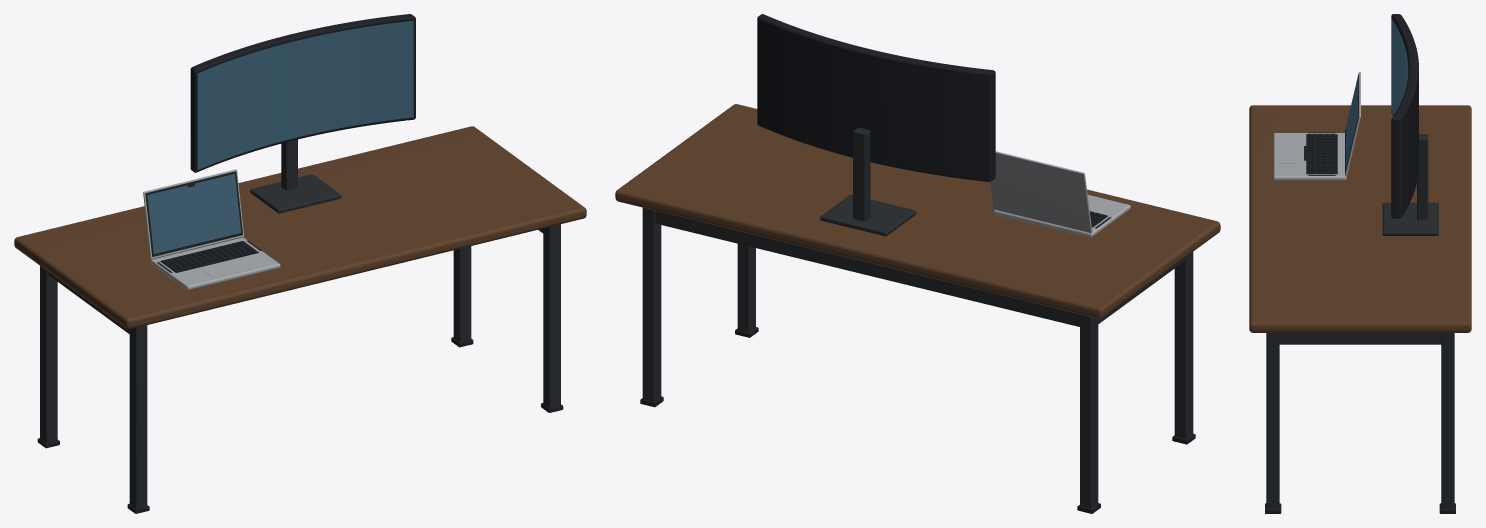
The model's file is personal-desk.glb.
3 renders of one model, left to right at view 1: azimuth 30°, elevation 25°; view 2: azimuth 150°, elevation 25°; view 3: azimuth 270°, elevation 25°, orthographic. The views are drawn at different scales.
Visible parts, largest first — view 1: Personal_Desktop, Personal_Ultrawide_Screen, Personal_MacBook_Screen, Personal_Ultrawide_Housing, Personal_Leg, Personal_Leg.002, Personal_Leg.001, MacBook_Base, Personal_Ultrawide_StandBase, Personal_Leg.003, MacBook_DisplayBezel, Personal_Ultrawide_StandStem (+1 smaller); view 2: Personal_Desktop, Personal_Ultrawide_Housing, Personal_RearRail, MacBook_DisplayHousing, Personal_Leg.003, Personal_Leg.001, Personal_Leg, Personal_Ultrawide_StandBase, Personal_Ultrawide_StandStem, Personal_Leg.002, MacBook_Base; view 3: Personal_Desktop, Personal_Ultrawide_Housing, Personal_Leg.002, Personal_Leg.003, Personal_SideRail.001, MacBook_Base, Personal_Ultrawide_StandBase, Personal_Ultrawide_Screen, Personal_Ultrawide_StandStem, Personal_MacBook_Screen, MacBook_KeyboardWell, MacBook_Trackpad (+1 smaller).
Part boxes in pixels (x1,y1,x2,y2): Personal_Desktop: (14, 126, 586, 329); Personal_Ultrawide_Screen: (197, 20, 413, 169); Personal_MacBook_Screen: (147, 173, 241, 253); Personal_Ultrawide_Housing: (190, 14, 415, 172); Personal_Leg: (129, 325, 147, 508); Personal_Leg.002: (543, 224, 560, 407); Personal_Leg.001: (40, 266, 57, 443); MacBook_Base: (150, 237, 280, 290); Personal_Ultrawide_StandBase: (250, 174, 341, 213); Personal_Leg.003: (453, 246, 471, 342); MacBook_DisplayBezel: (145, 171, 242, 256); Personal_Ultrawide_StandStem: (281, 139, 297, 190); Personal_Desktop: (615, 104, 1220, 318); Personal_Ultrawide_Housing: (757, 14, 995, 181); Personal_RearRail: (655, 210, 1079, 326); MacBook_DisplayHousing: (989, 151, 1092, 233); Personal_Leg.003: (642, 207, 661, 401); Personal_Leg.001: (1080, 314, 1098, 508); Personal_Leg: (1174, 252, 1193, 439); Personal_Ultrawide_StandBase: (820, 194, 916, 236); Personal_Ultrawide_StandStem: (853, 127, 870, 221); Personal_Leg.002: (737, 244, 755, 332); MacBook_Base: (993, 195, 1130, 237); Personal_Desktop: (1249, 105, 1471, 332); Personal_Ultrawide_Housing: (1391, 14, 1418, 218); Personal_Leg.002: (1266, 333, 1279, 509); Personal_Leg.003: (1441, 333, 1454, 509); Personal_SideRail.001: (1279, 333, 1441, 344); MacBook_Base: (1273, 133, 1346, 180); Personal_Ultrawide_StandBase: (1382, 202, 1438, 235); Personal_Ultrawide_Screen: (1391, 18, 1408, 115); Personal_Ultrawide_StandStem: (1417, 134, 1428, 220); Personal_MacBook_Screen: (1345, 77, 1357, 168); MacBook_KeyboardWell: (1306, 134, 1337, 174); MacBook_Trackpad: (1277, 145, 1298, 163).
Size of the model in its own units: 1.75 by 1.33 by 0.75.
